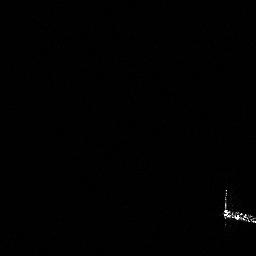ship: (218, 184, 256, 228)
